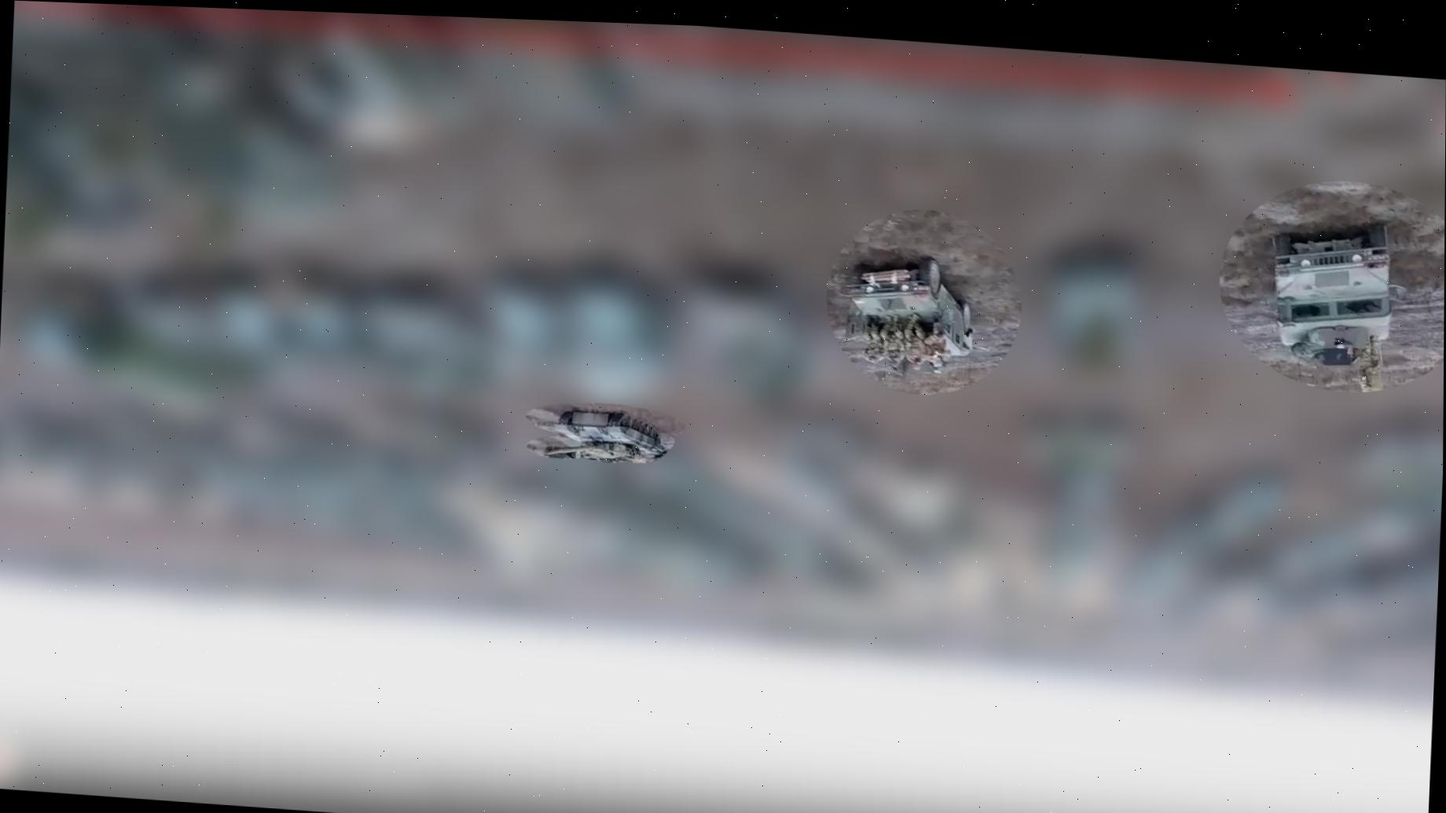armored_car: (1266, 206, 1397, 370), (838, 250, 980, 382)
tank: (523, 398, 683, 467)
